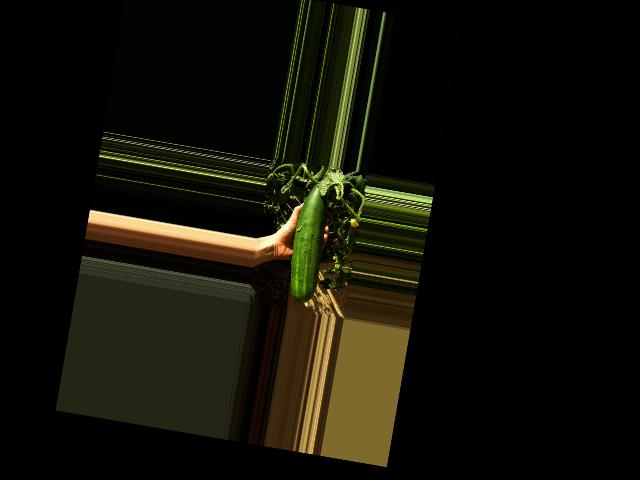cucumber: (283, 179, 334, 305)
